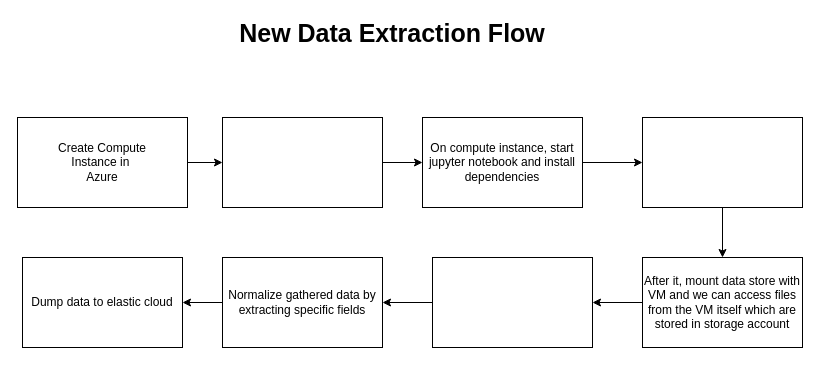
Image size: 820x365. Some labels were removed from this diagram. Here are the shapes that lost their labels. From the top down, the centre of each, then its label:
At (302,162): "Create data store instance associated with storage account".
At (722,162): "Once done, integrate IRS-XML library in jupyter notebook".
At (512,302): "Once files are accessed, parse data using IRS library".
